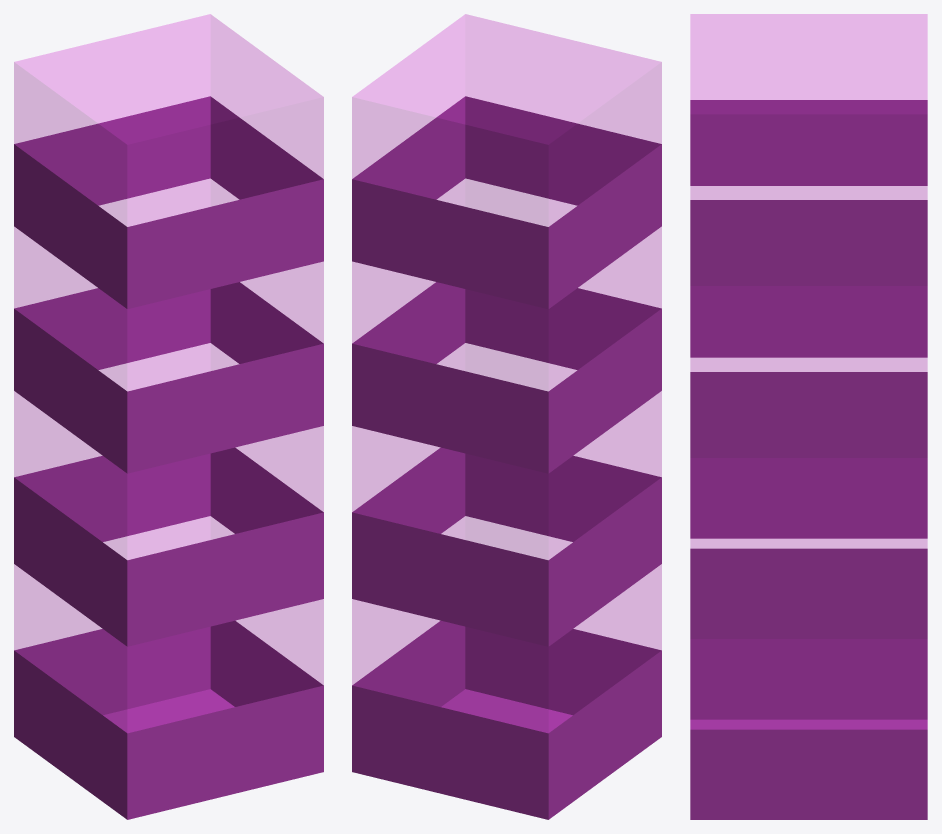
The model's file is hcnbox.obj.
3 renders of one model, left to right at view 1: azimuth 30°, elevation 25°; view 2: azimuth 150°, elevation 25°; view 3: azimuth 270°, elevation 25°, orthographic. The views are drawn at different scales.
Parts seen in each view (by area): view 1: LegScale; view 2: LegScale; view 3: LegScale.
Part boxes in pixels (<box>): LegScale: <box>14,14,323,819</box>; LegScale: <box>352,14,661,819</box>; LegScale: <box>690,14,927,819</box>.
Size of the model in its own units: 0.1 by 0.3284 by 0.1.
